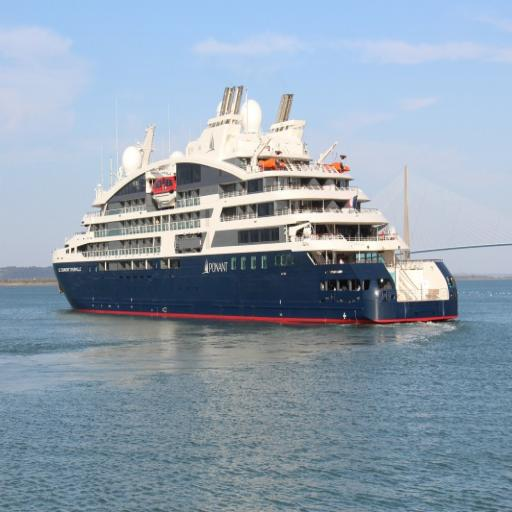cruises: (43, 86, 470, 334)
